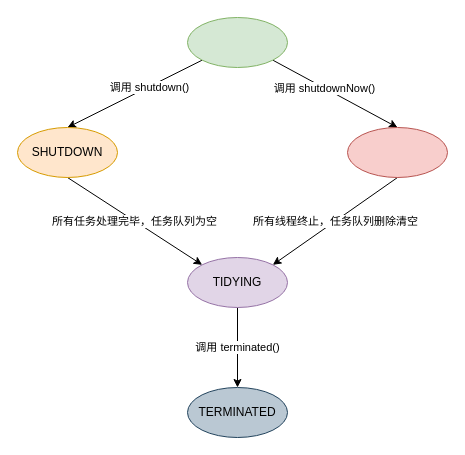
Some shapes in this 465 by 455 pixel diagram are drawn without their labels. Here are the shapes that lost their labels. From the top down, the centre of each, then its label:
[237,42]: RUNNING
[397,152]: STOP
